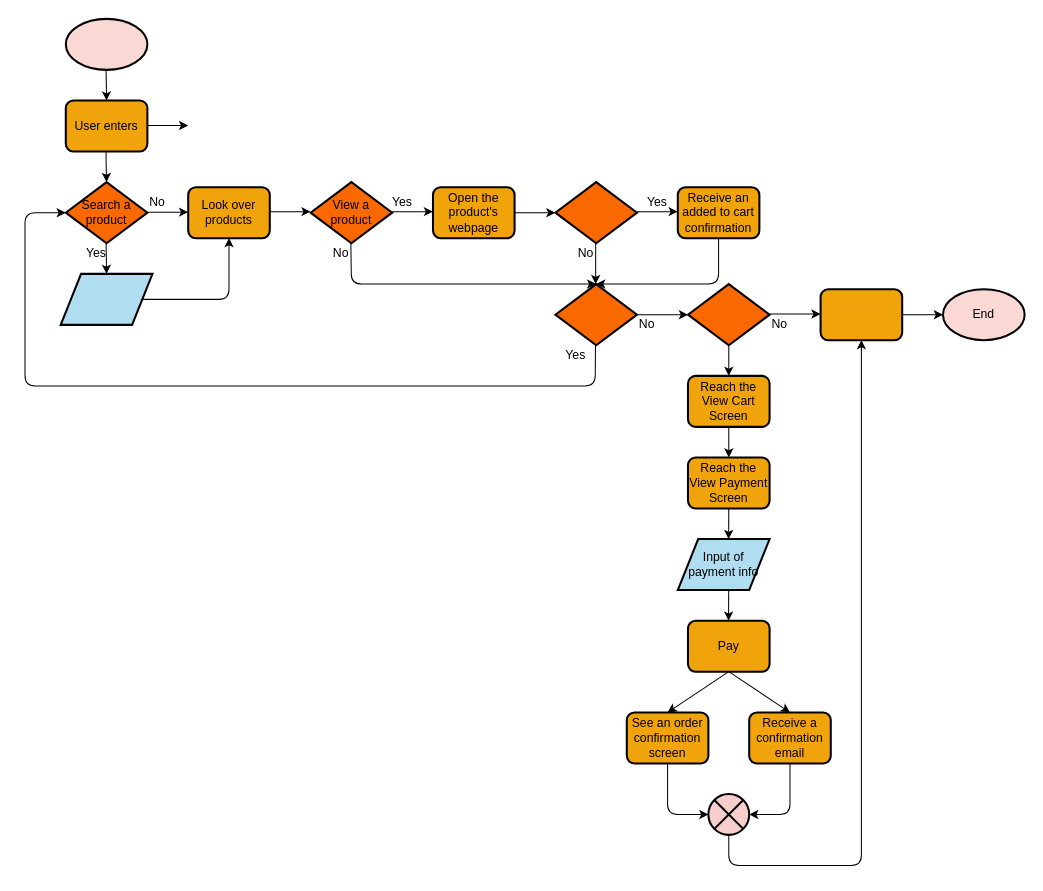
Image size: 1043x891. Some labels were removed from this diagram. The shapes that lost their labels are listed below. From the top down, each one's centre as x and y in pixels, then its label:
point (106, 43): Start
point (596, 212): Add to cart
point (106, 298): Input of the product
point (596, 314): Continue shopping
point (728, 314): Checkout
point (861, 314): Leave the website
